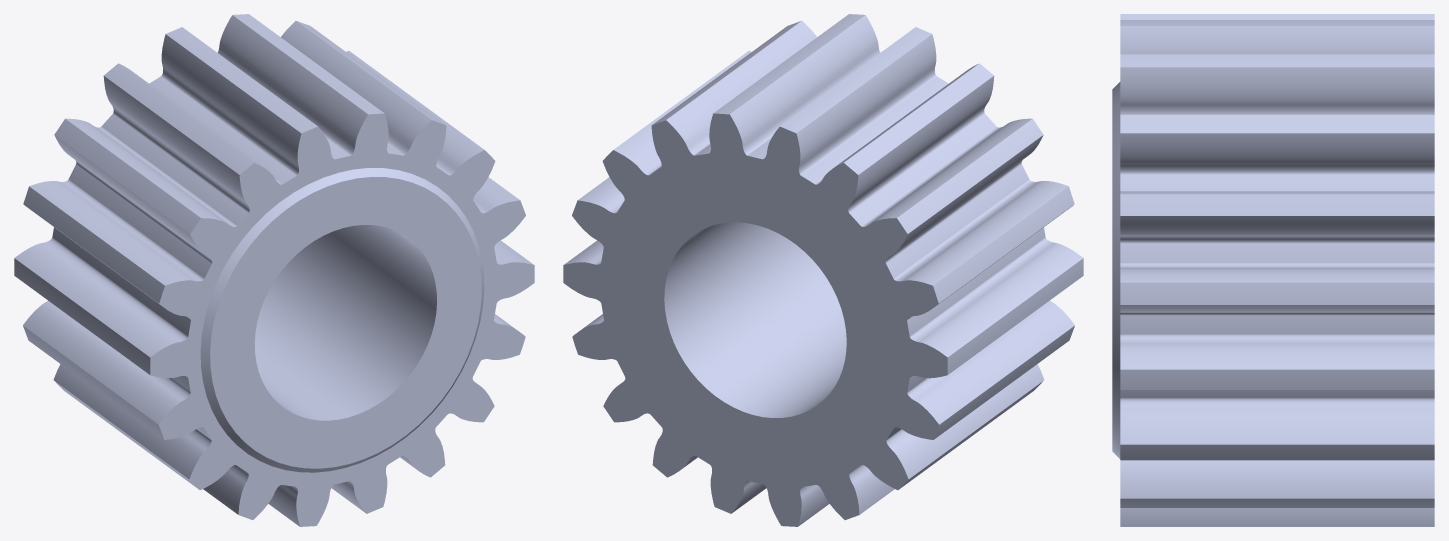
File: REV_21_2101_P05_11_solid1.obj
3 views of the same model, side by side, from view 1: azimuth 30°, elevation 25°; view 2: azimuth 150°, elevation 25°; view 3: azimuth 270°, elevation 25° (orthographic). The views are drawn at different scales.
Visible parts, largest first — view 1: mesh23620, mesh23617, mesh23619, mesh23618, mesh23665, mesh23672, mesh23663, mesh23670, mesh23658, mesh23693, mesh23661, mesh23668 (+20 smaller); view 2: mesh23621, mesh23619, mesh23618, mesh23665, mesh23672, mesh23663, mesh23670, mesh23658, mesh23693, mesh23661, mesh23668, mesh23638 (+17 smaller); view 3: mesh23685, mesh23692, mesh23690, mesh23683, mesh23689, mesh23664, mesh23686, mesh23623, mesh23624, mesh23625, mesh23687, mesh23654 (+16 smaller).
Boxes of the visible parts, x1,y1,x2,y2 form: mesh23620: (150, 113, 534, 526); mesh23617: (210, 177, 481, 468); mesh23619: (254, 245, 431, 420); mesh23618: (309, 225, 436, 334); mesh23665: (217, 15, 367, 155); mesh23672: (14, 237, 188, 357); mesh23663: (161, 34, 301, 175); mesh23670: (23, 300, 190, 424); mesh23658: (29, 179, 204, 285); mesh23693: (281, 21, 431, 155); mesh23661: (103, 76, 249, 213); mesh23668: (53, 364, 211, 478); mesh23621: (563, 113, 947, 526); mesh23619: (670, 242, 846, 417); mesh23618: (664, 222, 792, 331); mesh23665: (730, 15, 880, 155); mesh23672: (909, 237, 1083, 357); mesh23663: (796, 34, 936, 175); mesh23670: (907, 300, 1074, 424); mesh23658: (893, 179, 1068, 285); mesh23693: (666, 21, 816, 155); mesh23661: (848, 76, 994, 213); mesh23668: (886, 364, 1044, 478); mesh23638: (897, 119, 1043, 233); mesh23685: (1120, 397, 1434, 444); mesh23692: (1120, 67, 1434, 114); mesh23690: (1120, 133, 1434, 174); mesh23683: (1120, 460, 1434, 498); mesh23689: (1120, 334, 1434, 369); mesh23664: (1120, 26, 1434, 54); mesh23686: (1120, 216, 1434, 243); mesh23623: (1120, 282, 1434, 304); mesh23624: (1120, 194, 1434, 215); mesh23625: (1120, 369, 1434, 389); mesh23687: (1120, 262, 1434, 282); mesh23654: (1120, 243, 1434, 262).
Bounding box in the file's own units: 0.0127 × 0.0126 × 0.008.
